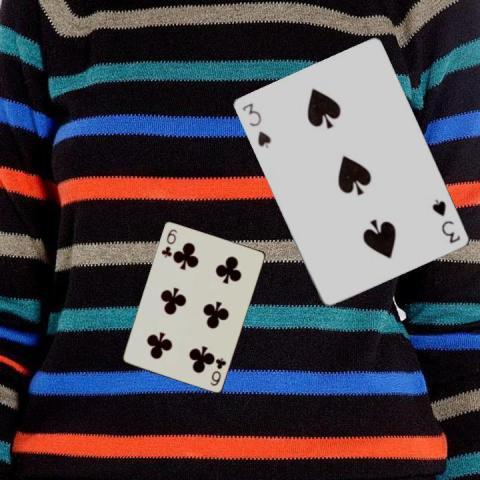3s: (239, 100, 272, 149), (429, 195, 461, 245)
6c: (158, 226, 178, 259), (208, 354, 228, 386)
